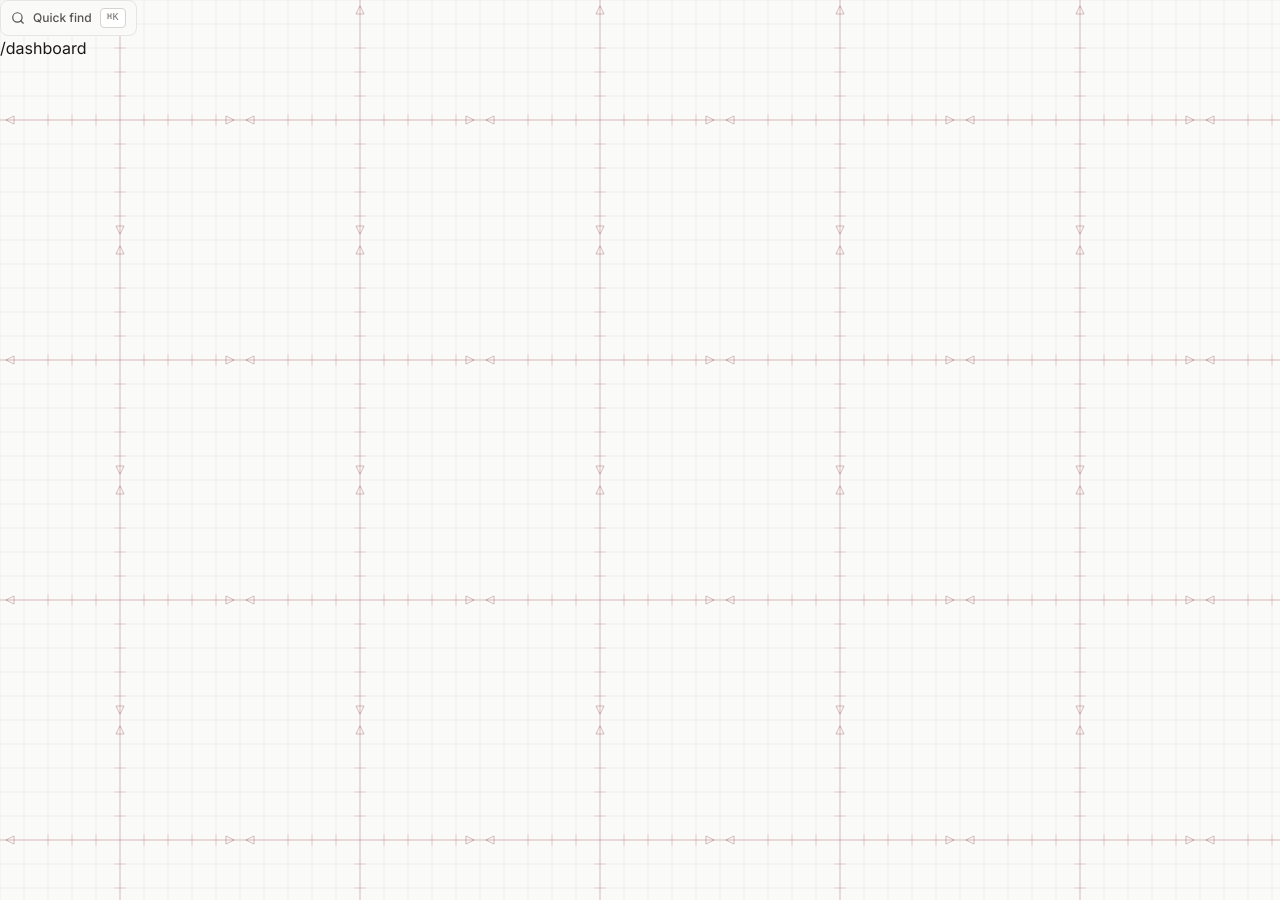
Test: CommandPalette › opens with Ctrl+K, searches courses, problems, and theorems, and navigates on Enter
Press k
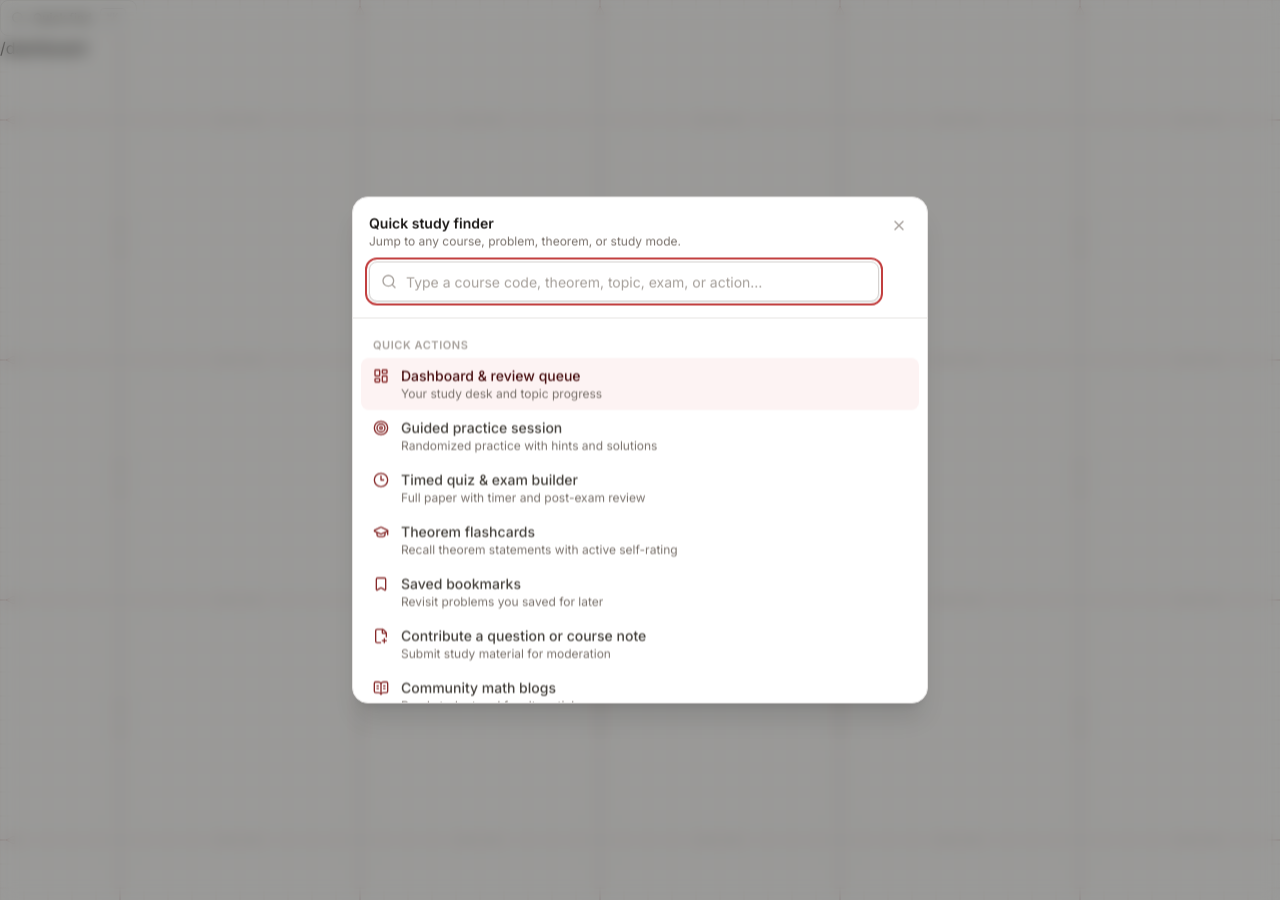
Expected: the dialog is shown, x1=352 y1=196 x2=928 y2=704
In the field named "Search courses, problems, theorems, and study tools": (624, 282) x1=369 y1=262 x2=879 y2=302, type "Egoroff"
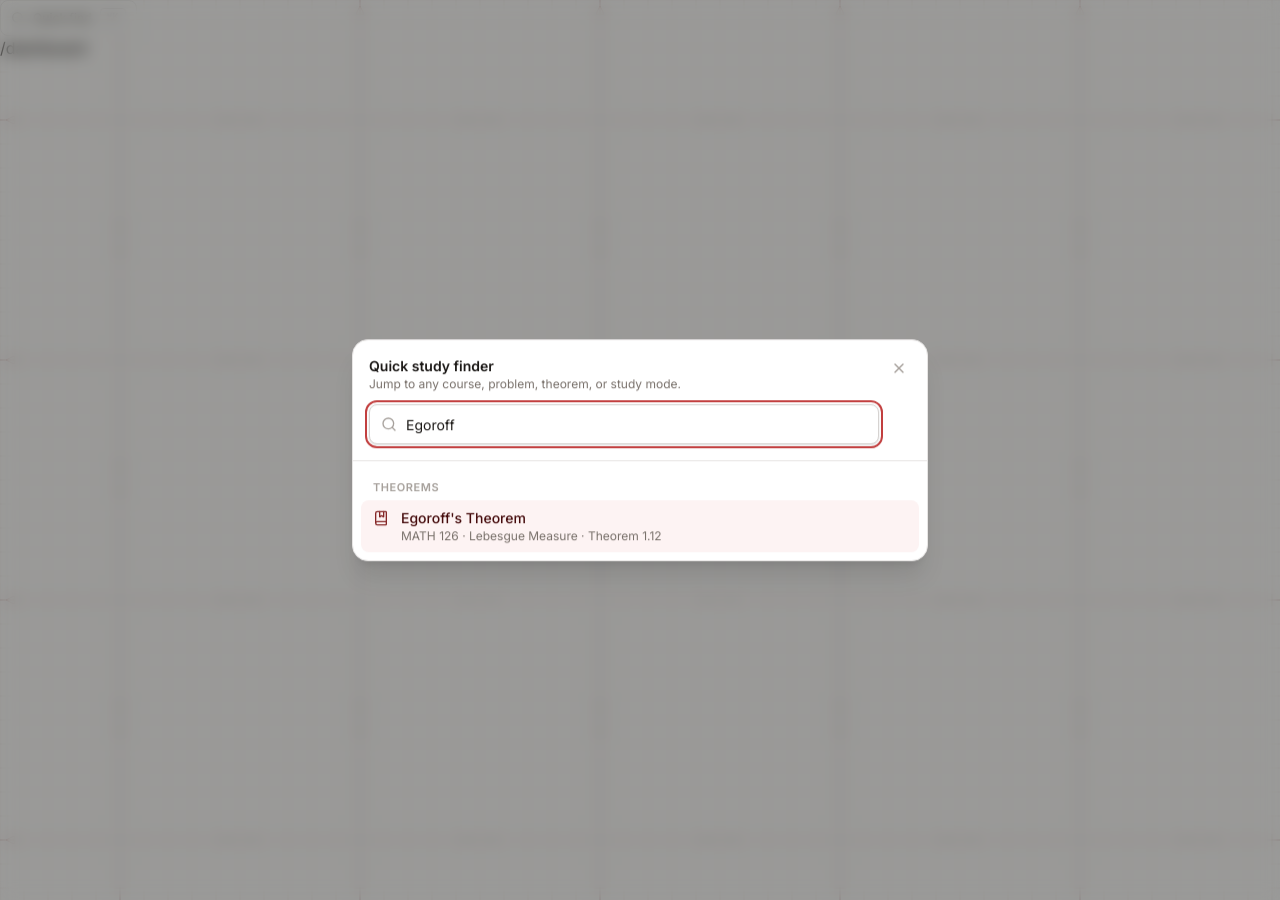
Expected: the text "Egoroff's Theorem" is shown, x1=401 y1=509 x2=526 y2=526
Press Enter in the field named "Search courses, problems, theorems, and study tools", box x1=369 y1=404 x2=879 y2=444
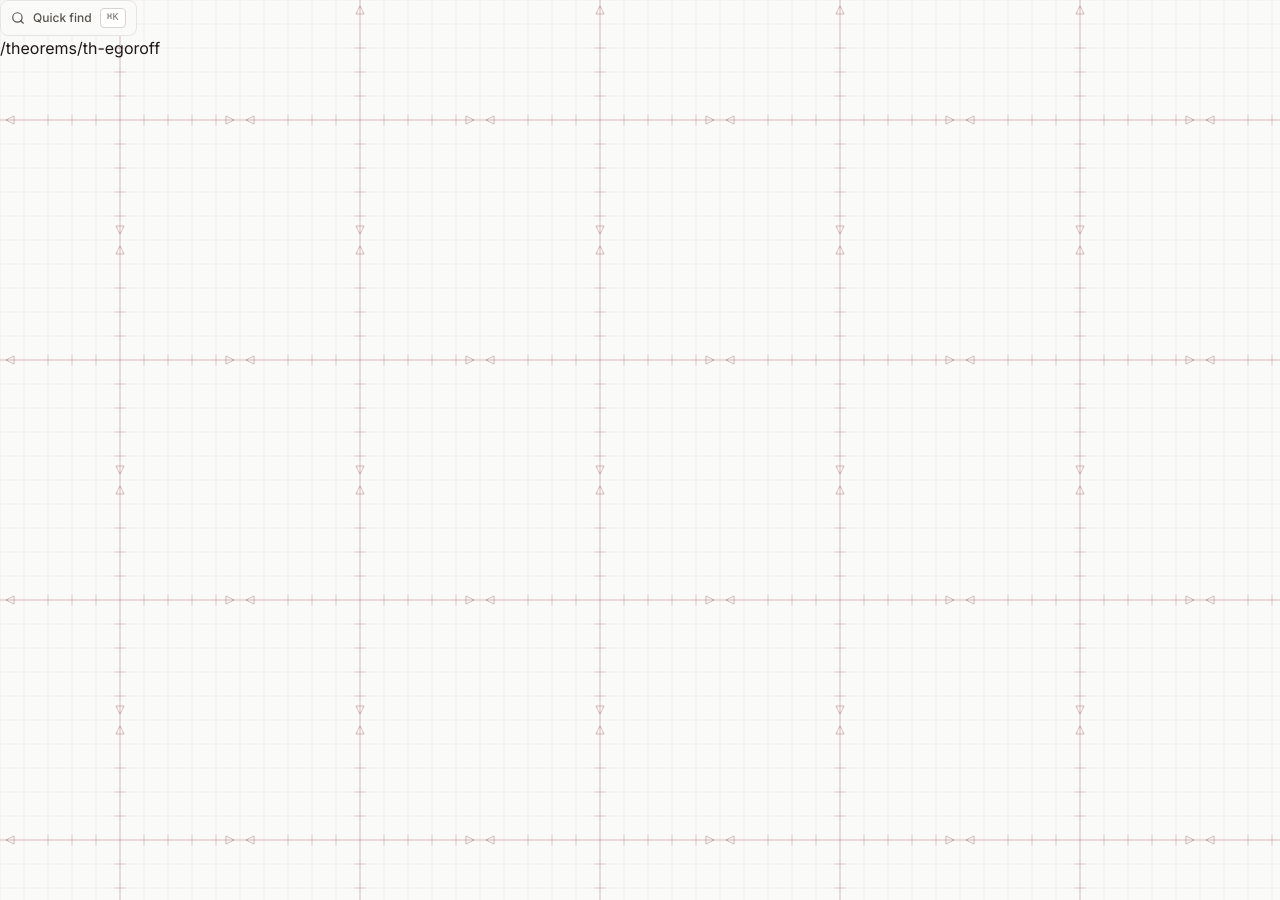
Expected: the text with test id "path" reads "/theorems/th-egoroff", x1=0 y1=38 x2=160 y2=58
